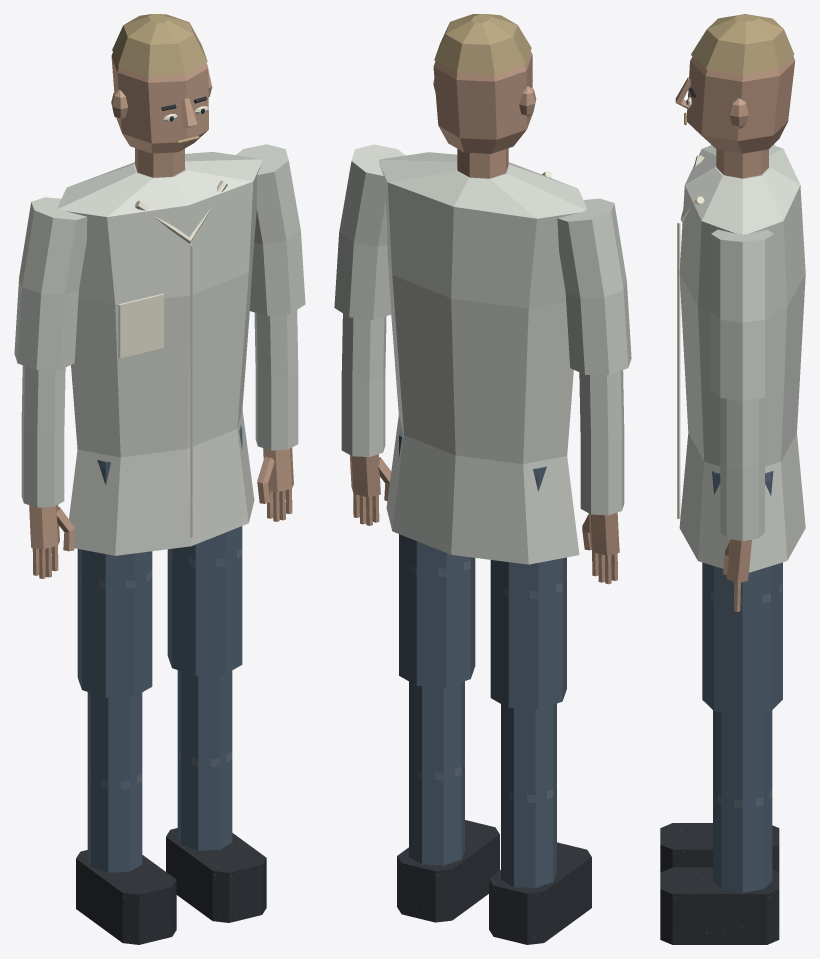
The model's file is player_reflection.glb.
3 renders of one model, left to right at view 1: azimuth 30°, elevation 25°; view 2: azimuth 150°, elevation 25°; view 3: azimuth 270°, elevation 25°, orthographic. The views are drawn at different scales.
Visible parts, largest first — view 1: gown_torso, thigh_volume_r, thigh_volume_l, upper_arm_volume_r, calf_volume_r, calf_volume_l, upper_arm_volume_l, foot_volume_r, foot_volume_l, skull_volume, forearm_volume_r, forearm_volume_l (+6 smaller); view 2: gown_torso, thigh_volume_r, thigh_volume_l, upper_arm_volume_r, calf_volume_r, calf_volume_l, upper_arm_volume_l, skull_volume, foot_volume_r, foot_volume_l, forearm_volume_r, forearm_volume_l (+4 smaller); view 3: gown_torso, thigh_volume_l, upper_arm_volume_l, calf_volume_l, foot_volume_l, skull_volume, forearm_volume_l, short_hair_cap, foot_volume_r, neck_volume, gown_seam, hand_volume_l (+1 smaller).
Boxes of the visible parts, x1,y1,x2,y2 form: gown_torso: [58, 152, 261, 555]; thigh_volume_r: [77, 460, 152, 697]; thigh_volume_l: [167, 425, 242, 675]; upper_arm_volume_r: [14, 197, 87, 369]; calf_volume_r: [87, 692, 142, 872]; calf_volume_l: [177, 670, 232, 850]; upper_arm_volume_l: [236, 144, 305, 316]; foot_volume_r: [76, 850, 176, 944]; foot_volume_l: [166, 828, 266, 922]; skull_volume: [111, 53, 208, 153]; forearm_volume_r: [21, 365, 65, 507]; forearm_volume_l: [254, 310, 298, 450]; gown_torso: [379, 152, 586, 564]; thigh_volume_r: [490, 466, 566, 709]; thigh_volume_l: [399, 431, 475, 687]; upper_arm_volume_r: [557, 198, 631, 374]; calf_volume_r: [501, 703, 556, 887]; calf_volume_l: [409, 681, 464, 865]; upper_arm_volume_l: [334, 144, 405, 319]; skull_volume: [433, 36, 532, 153]; foot_volume_r: [489, 842, 591, 944]; foot_volume_l: [397, 820, 499, 922]; forearm_volume_r: [579, 370, 624, 515]; forearm_volume_l: [341, 313, 386, 457]; gown_torso: [679, 145, 805, 572]; thigh_volume_l: [702, 471, 782, 715]; upper_arm_volume_l: [711, 229, 774, 401]; calf_volume_l: [713, 710, 772, 892]; foot_volume_l: [660, 867, 779, 944]; skull_volume: [686, 31, 795, 153]; forearm_volume_l: [720, 398, 764, 541]; short_hair_cap: [691, 14, 794, 75]; foot_volume_r: [660, 823, 779, 872]; neck_volume: [716, 149, 768, 178]; gown_seam: [677, 222, 680, 518]; hand_volume_l: [726, 539, 751, 583].
Bounding box in the file's own units: 0.5935 × 1.75 × 0.2594.
1 material, 1 textured.
